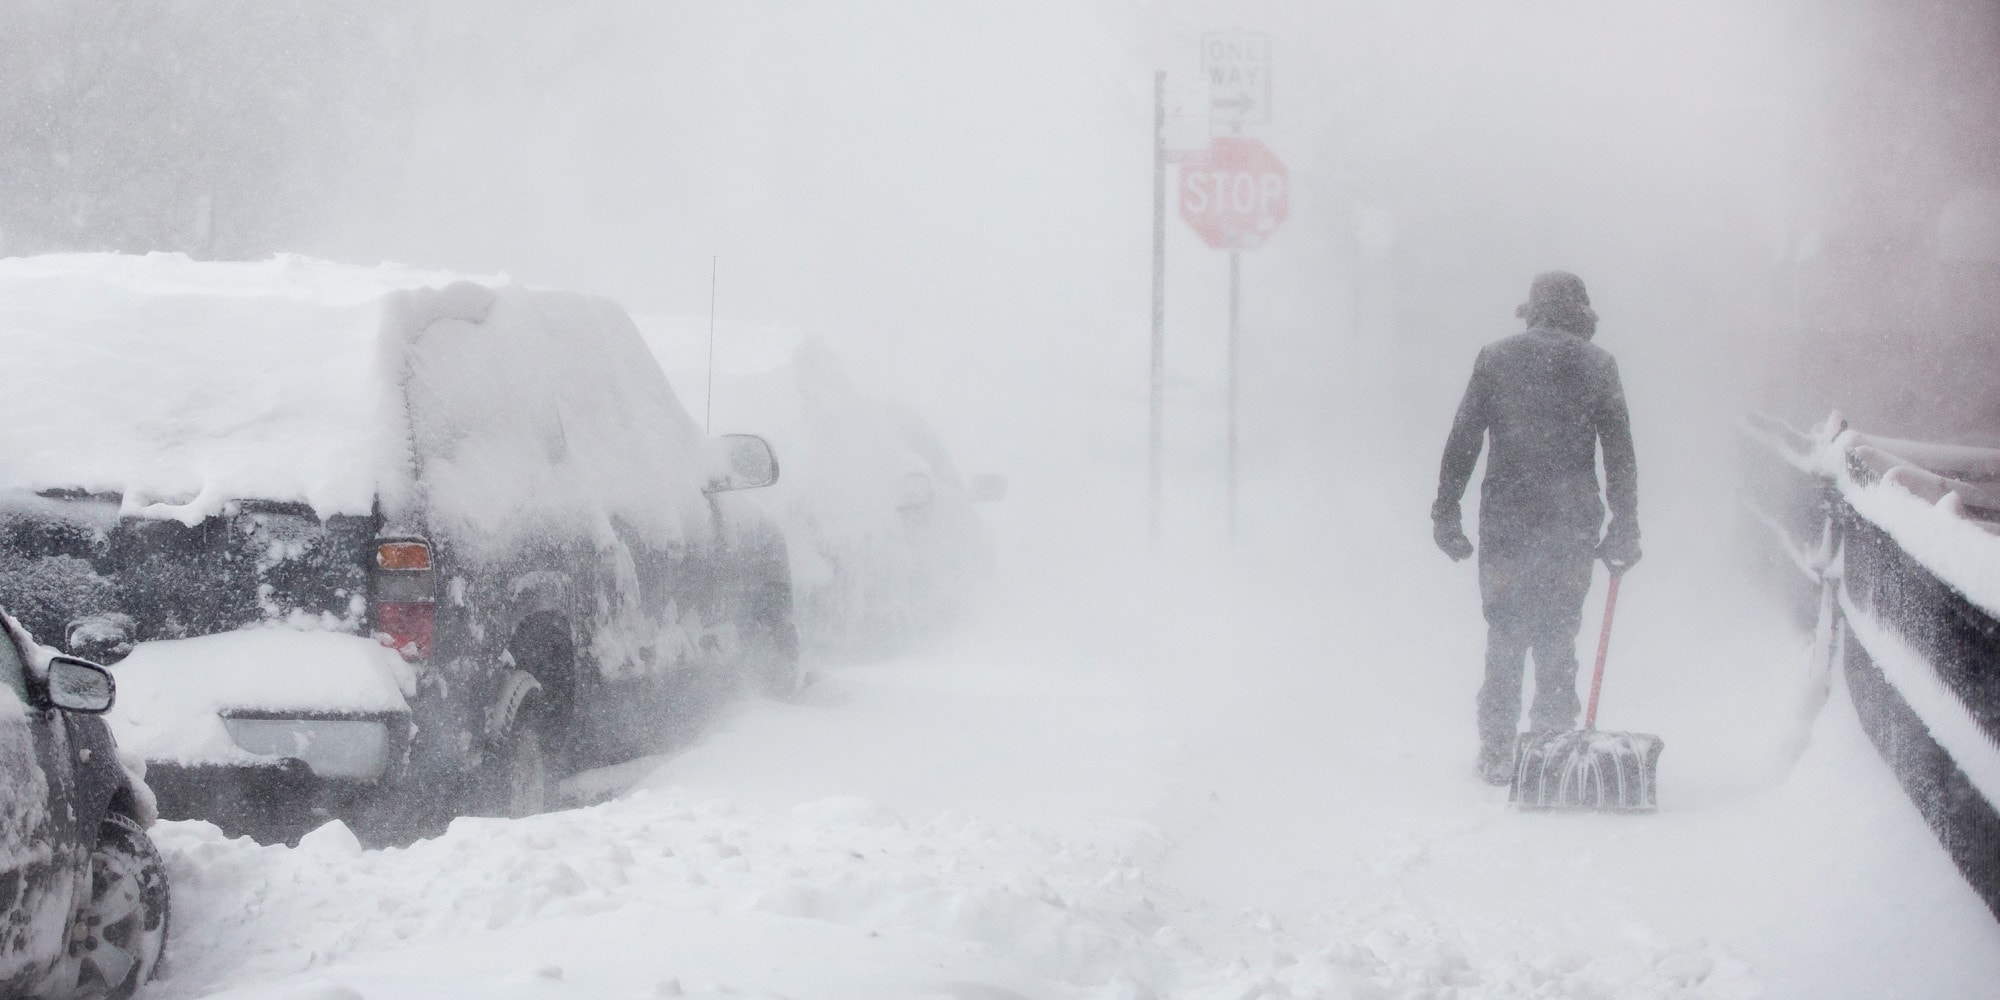car: (6, 256, 810, 820)
person: (1432, 257, 1641, 773)
stop sign: (1171, 132, 1294, 258)
